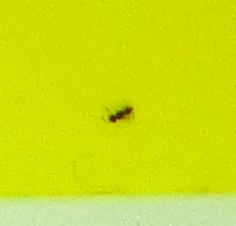Hymenoptera: (100, 100, 136, 126)
